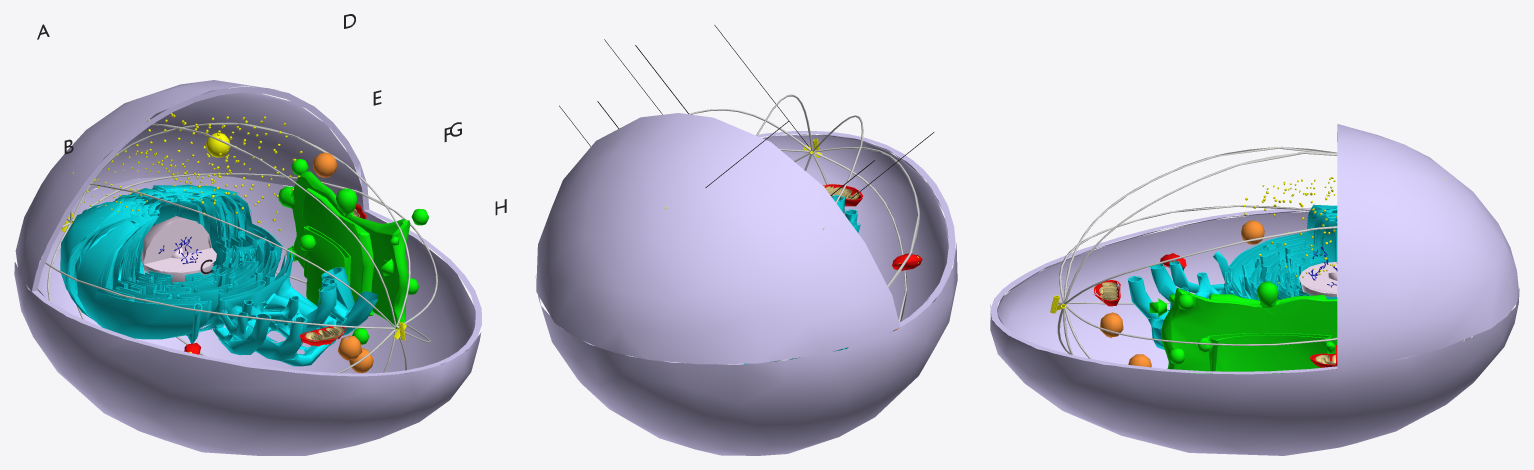
Rendered from 1-2.3D-0830lowmesh.gltf.
The picture shows the model from 3 angles, left to right: view 1: azimuth 30°, elevation 25°; view 2: azimuth 150°, elevation 25°; view 3: azimuth 270°, elevation 25°; orthographic projection. The views are drawn at different scales.
Parts seen in each view (by area): view 1: 374, 5, 399, 3, 419, 2, 271, 251, 295, 281, 388; view 2: 374, 295; view 3: 374, 399, 5, 3, 419, 291, 295.
Part boxes in pixels (box(x1,y1,x2,y2)): 374: box(14, 80, 481, 455); 5: box(60, 184, 378, 366); 399: box(278, 171, 410, 329); 3: box(143, 222, 214, 271); 419: box(72, 113, 302, 231); 2: box(141, 216, 216, 284); 271: box(80, 122, 339, 203); 251: box(73, 173, 393, 220); 295: box(183, 307, 396, 373); 281: box(232, 145, 396, 326); 388: box(312, 152, 337, 177); 374: box(535, 113, 957, 455); 295: box(812, 147, 919, 295); 374: box(990, 124, 1519, 455); 399: box(1161, 281, 1337, 373); 5: box(1128, 204, 1337, 349); 3: box(1301, 263, 1337, 294); 419: box(1243, 177, 1444, 283); 291: box(1060, 156, 1218, 303); 295: box(1058, 210, 1184, 311).
Size of the model in its own units: 49.99 by 48.38 by 62.09.
